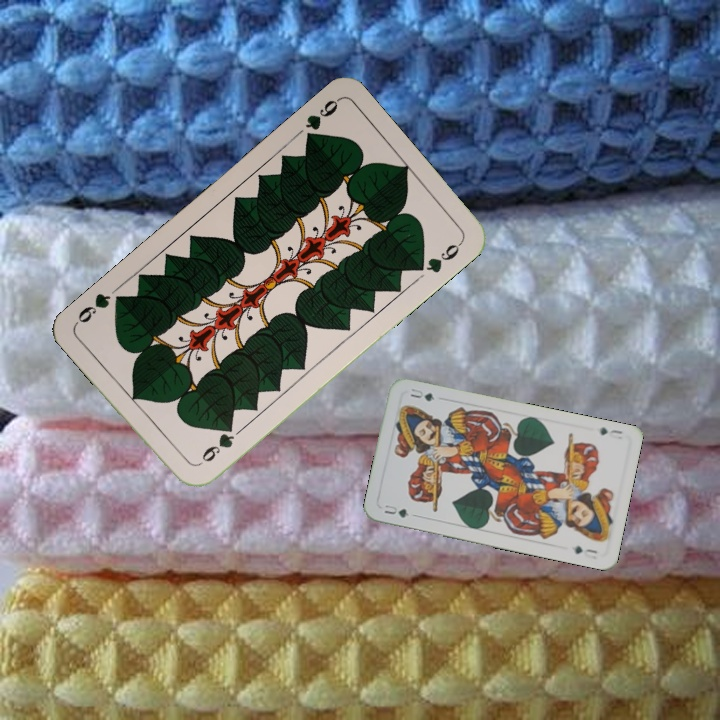G9: (301, 94, 342, 146), (197, 420, 237, 465)
GU: (380, 501, 418, 520), (595, 423, 625, 438)
